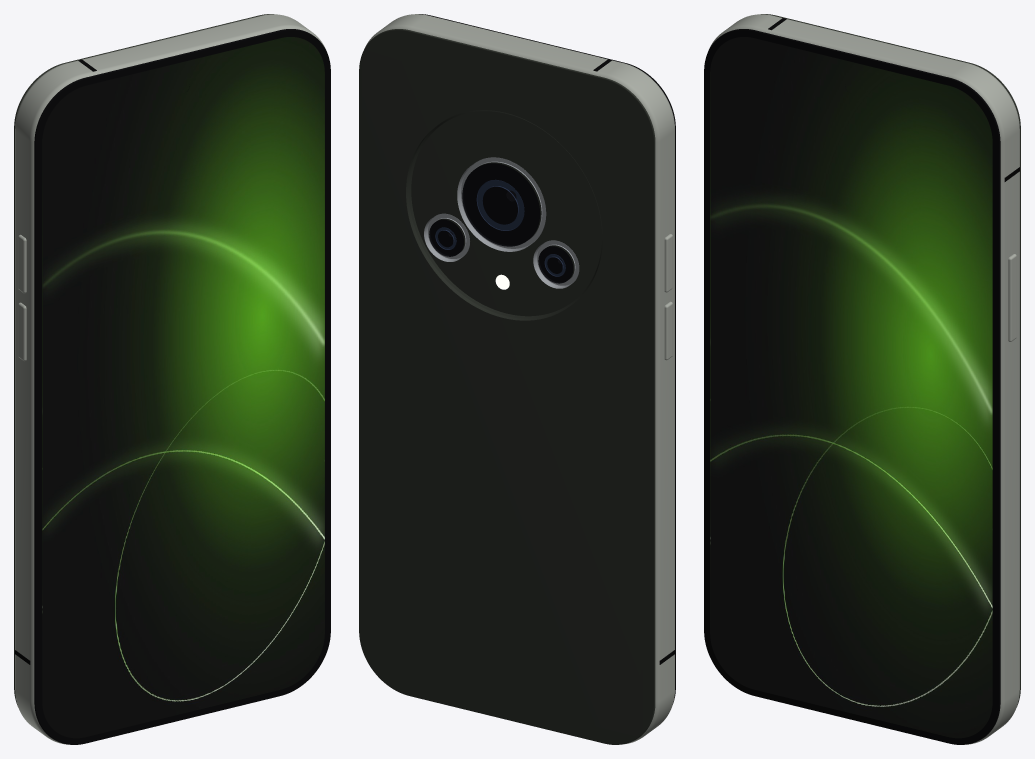
Rendered from demo-trama.glb.
3 renders of one model, left to right at view 1: azimuth 30°, elevation 25°; view 2: azimuth 150°, elevation 25°; view 3: azimuth 330°, elevation 25°, orthographic.
Parts seen in each view (by area): view 1: Tela, Moldura, Vidro, Corpo; view 2: Corpo, Moldura, Lente, Anel, Modulo, Iris, Vidro; view 3: Tela, Moldura, Vidro, Corpo.
Boxes of the visible parts, x1,y1,x2,y2 form: Tela: (42,37,324,738); Moldura: (15,14,326,744); Vidro: (34,29,330,744); Corpo: (14,14,273,706); Corpo: (359,29,655,744); Moldura: (364,14,674,744); Lente: (429,163,573,283); Anel: (424,157,579,288); Modulo: (406,110,602,320); Iris: (435,179,565,276); Vidro: (419,14,675,702); Tela: (710,37,992,738); Moldura: (708,14,1019,744); Vidro: (704,29,1000,744); Corpo: (761,14,1020,706).
Size of the model in its own units: 0.0753 by 0.1584 by 0.0123.
Materials: 11 (1 with a texture image).
